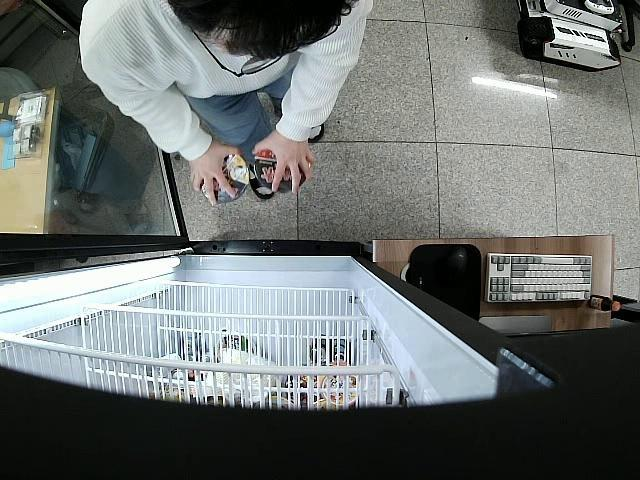07_buldak_L: (200, 148, 248, 204), (252, 146, 306, 194)
